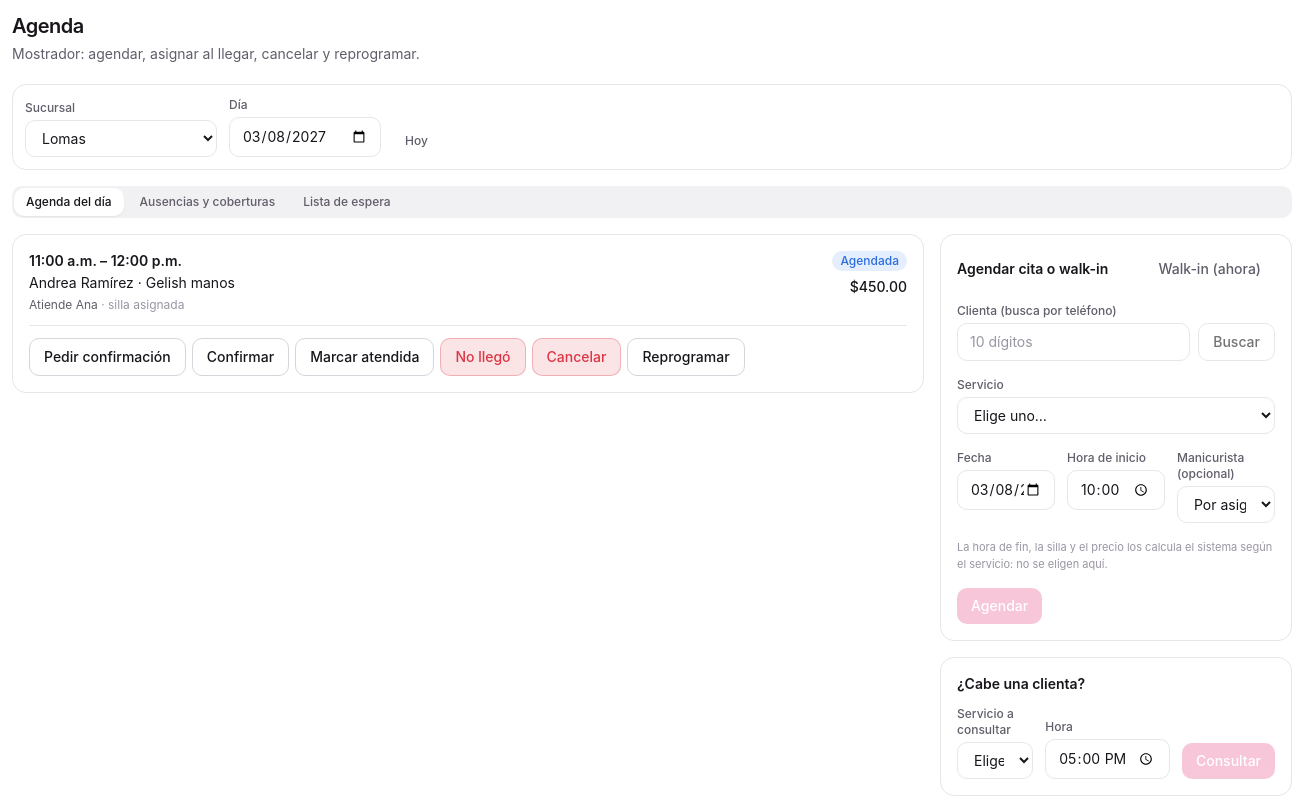
Test: Agenda Operativa — cancelar con confirmación consciente › muestra `huecoPerdidoCortoPlazo`: nadie fue avisado y es capacidad recuperable
Click the button "Cancelar" at [576, 357], box [532, 338, 621, 376]
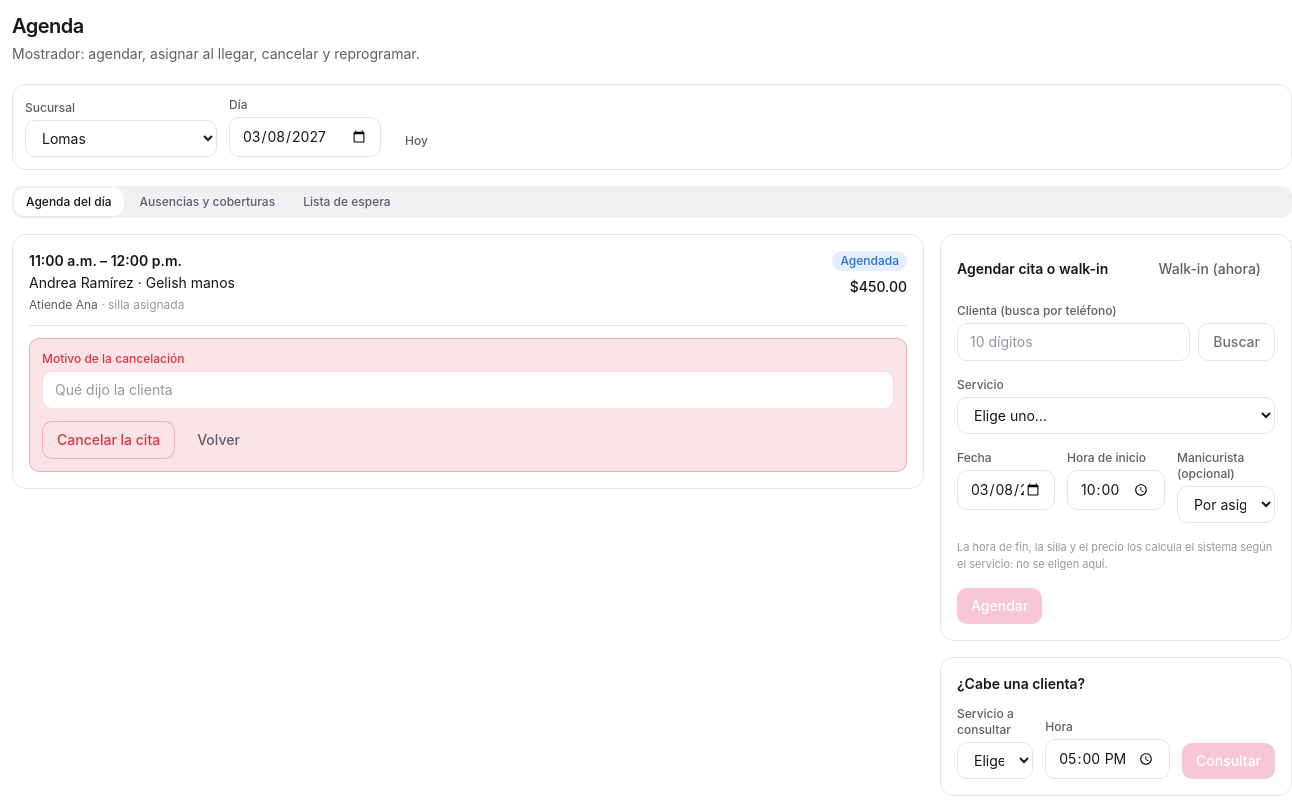
Click the button "Cancelar la cita" at [109, 440], box [42, 421, 175, 459]
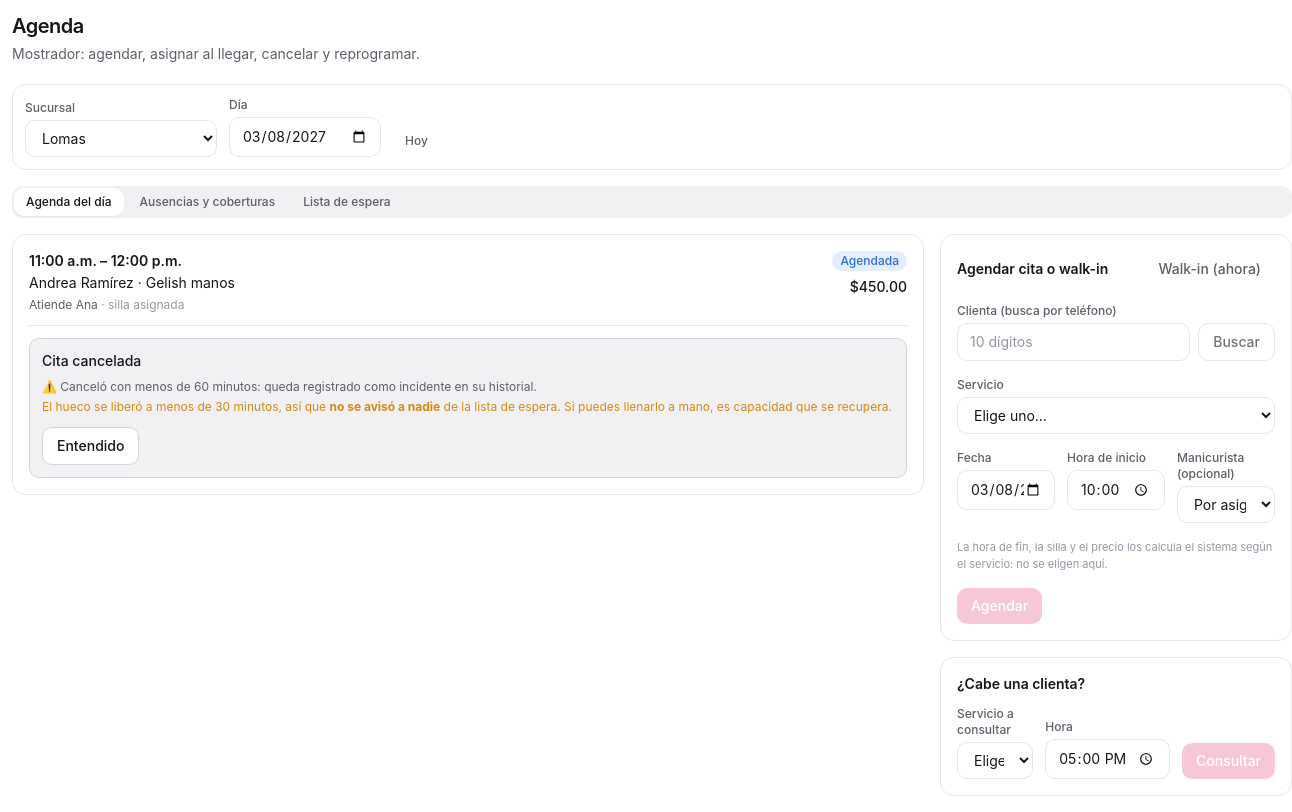
Expected: the message shows "no se avisó a nadie", [330, 399, 440, 414]
